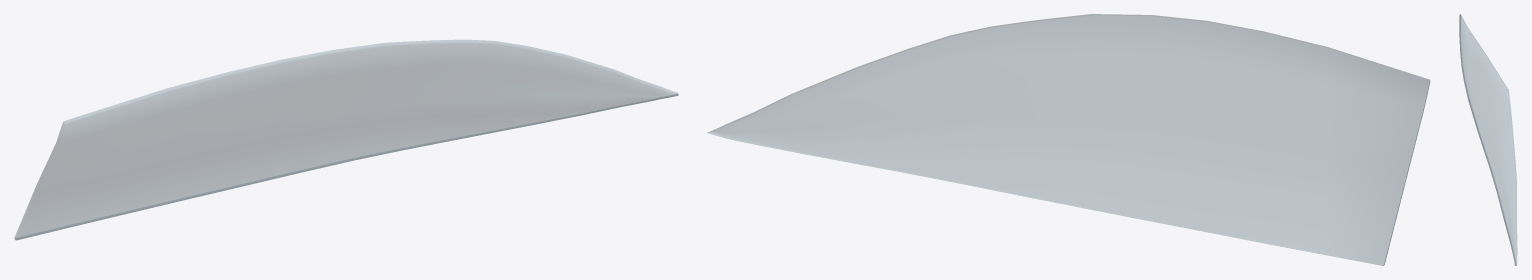
3 renders of one model, left to right at view 1: azimuth 30°, elevation 25°; view 2: azimuth 150°, elevation 25°; view 3: azimuth 270°, elevation 25°, orthographic. The views are drawn at different scales.
Visible parts, largest first — view 1: SM_MercedesCCC_Door_FL_Glass_Int1; view 2: SM_MercedesCCC_Door_FL_Glass_Int1; view 3: SM_MercedesCCC_Door_FL_Glass_Int1.
Boxes of the visible parts, <box> form: SM_MercedesCCC_Door_FL_Glass_Int1: <box>14,40,678,240</box>; SM_MercedesCCC_Door_FL_Glass_Int1: <box>708,14,1430,265</box>; SM_MercedesCCC_Door_FL_Glass_Int1: <box>1459,14,1517,265</box>.
Bounding box in the file's own units: 1.18 × 0.3106 × 0.1761.
